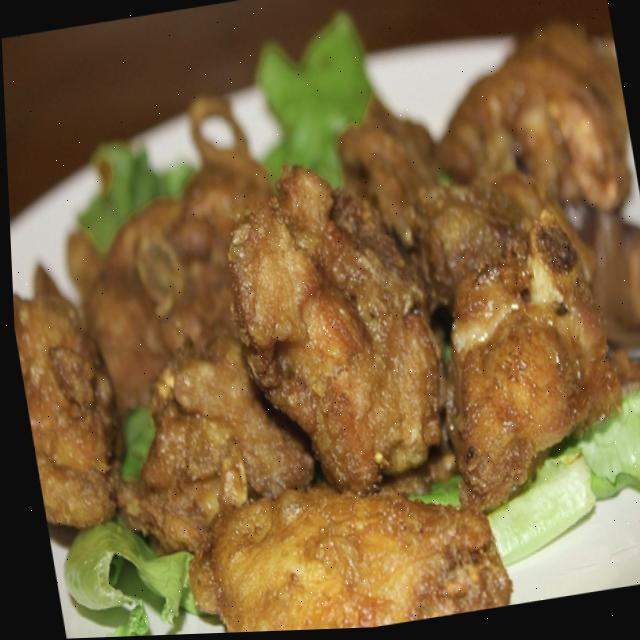鸡肉料理 含炸鸡: (12, 15, 640, 640)
